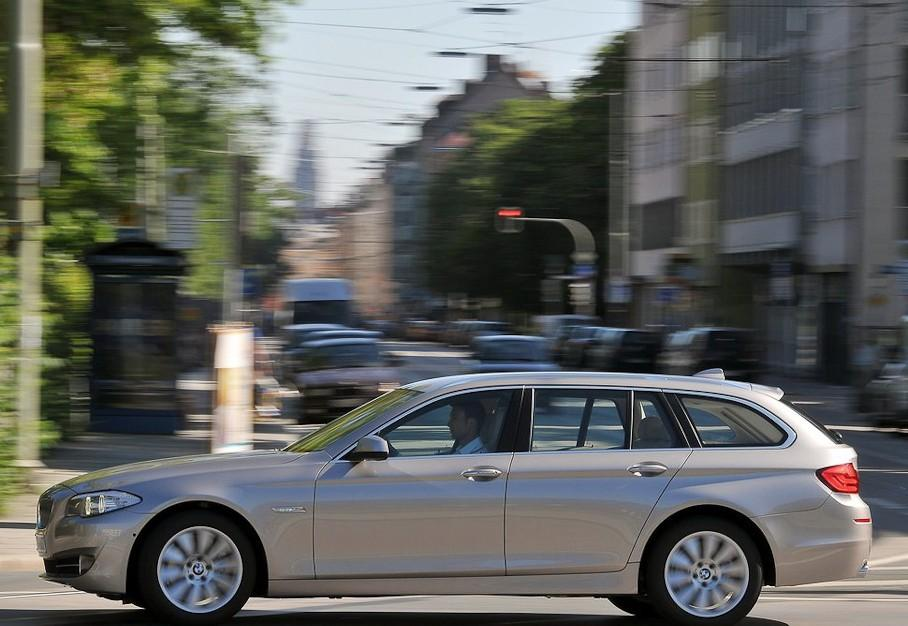Wagon: (35, 367, 871, 626)
